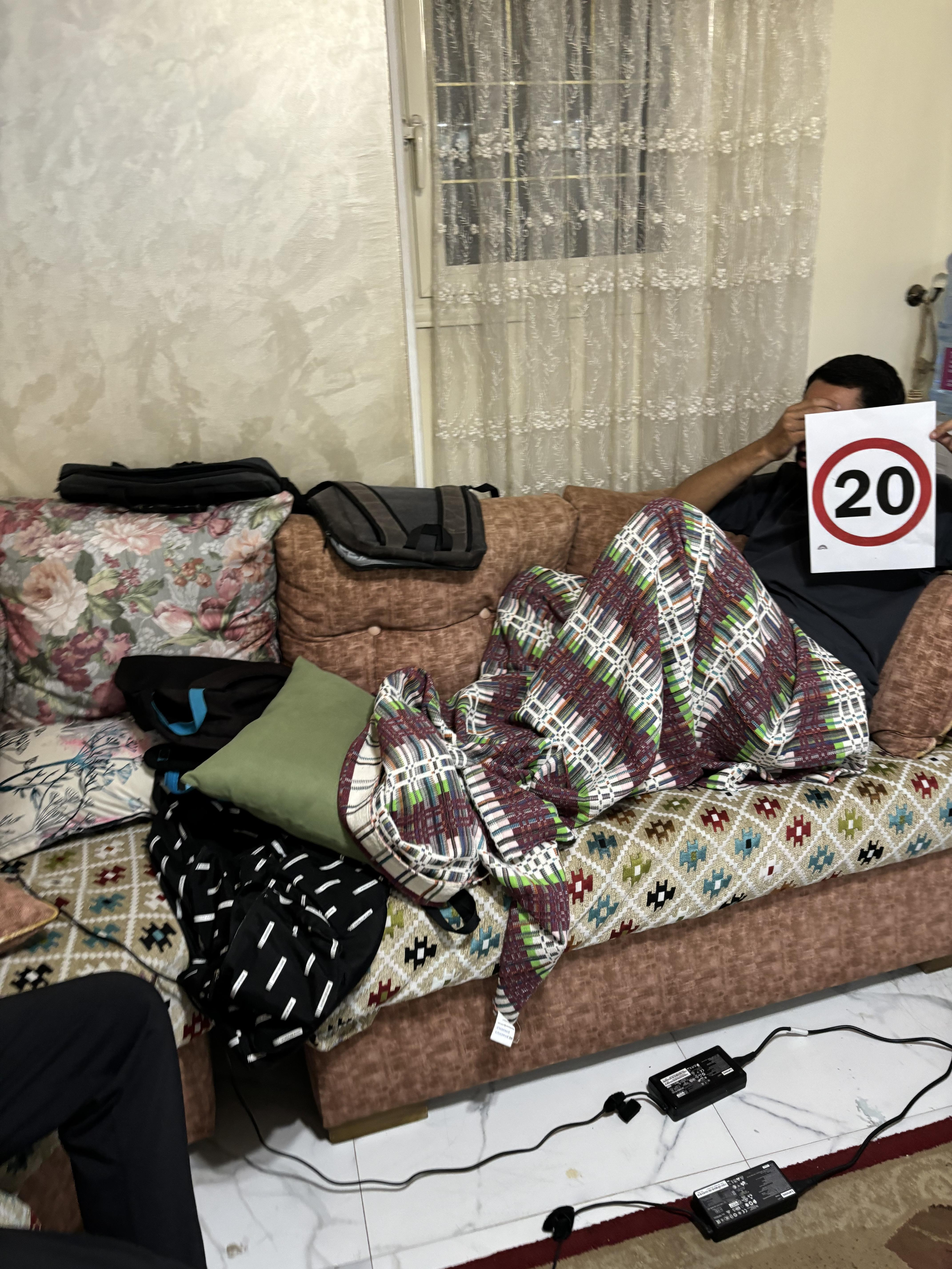20-Speed: (812, 434, 934, 548)
